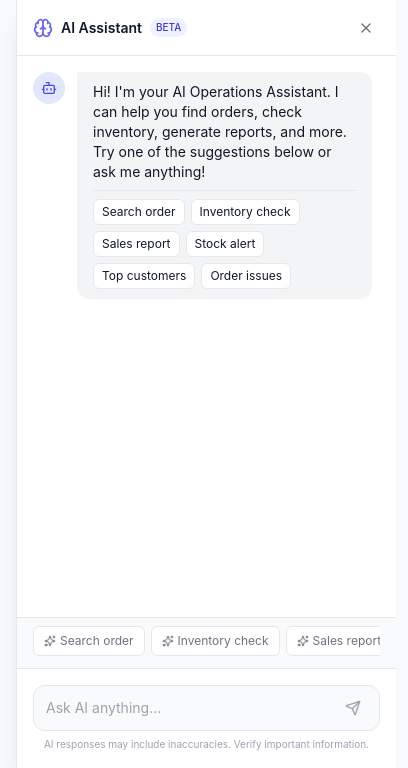
Test: AIAssistantPanel › tells the user why when the assistant is unavailable, instead of a generic apology
In the field: (188, 708) [46,698,331,718], type "hello"
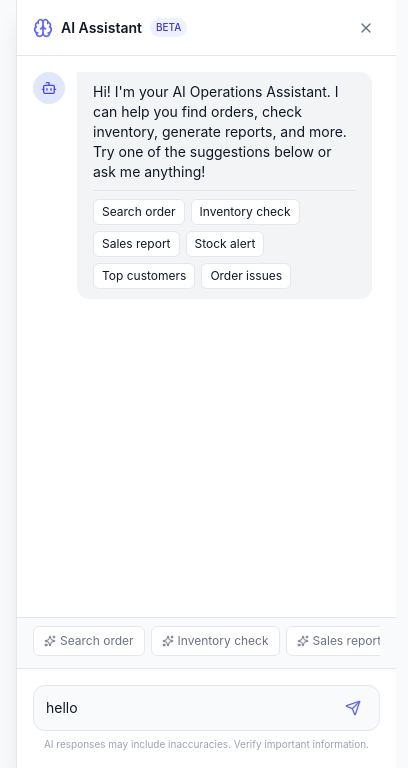
Press Enter in the field, box [46,698,331,718]
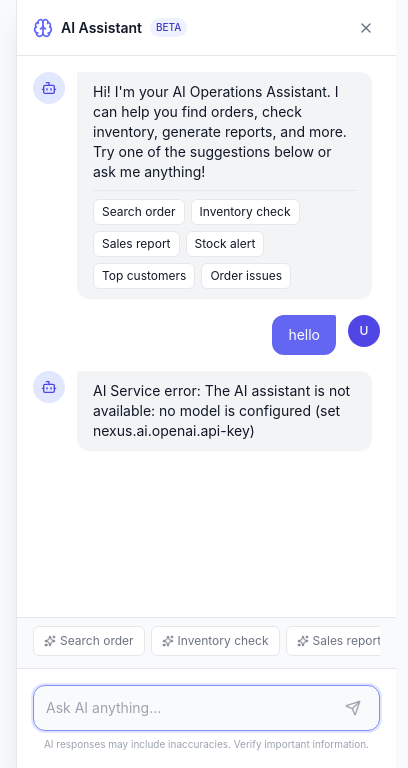
Expected: the text "no model is configured" is shown, [93,382,354,439]
